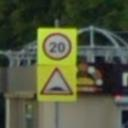speed_limit_20: (42, 33, 75, 61)
